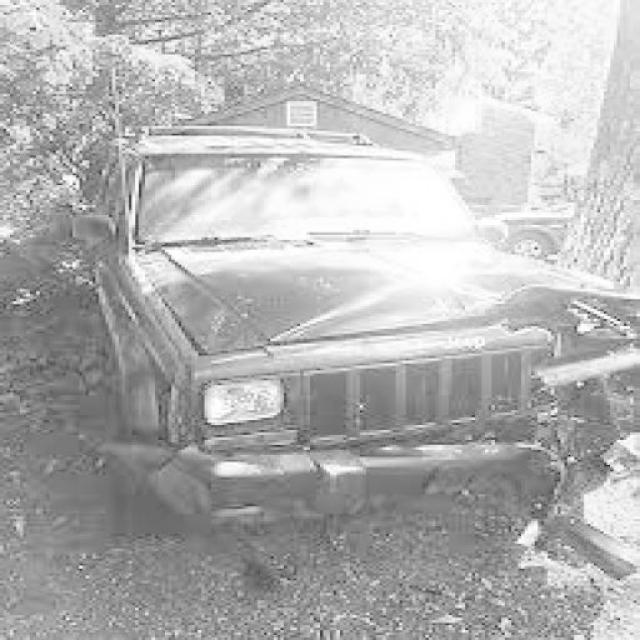car damage: (362, 281, 636, 588)
